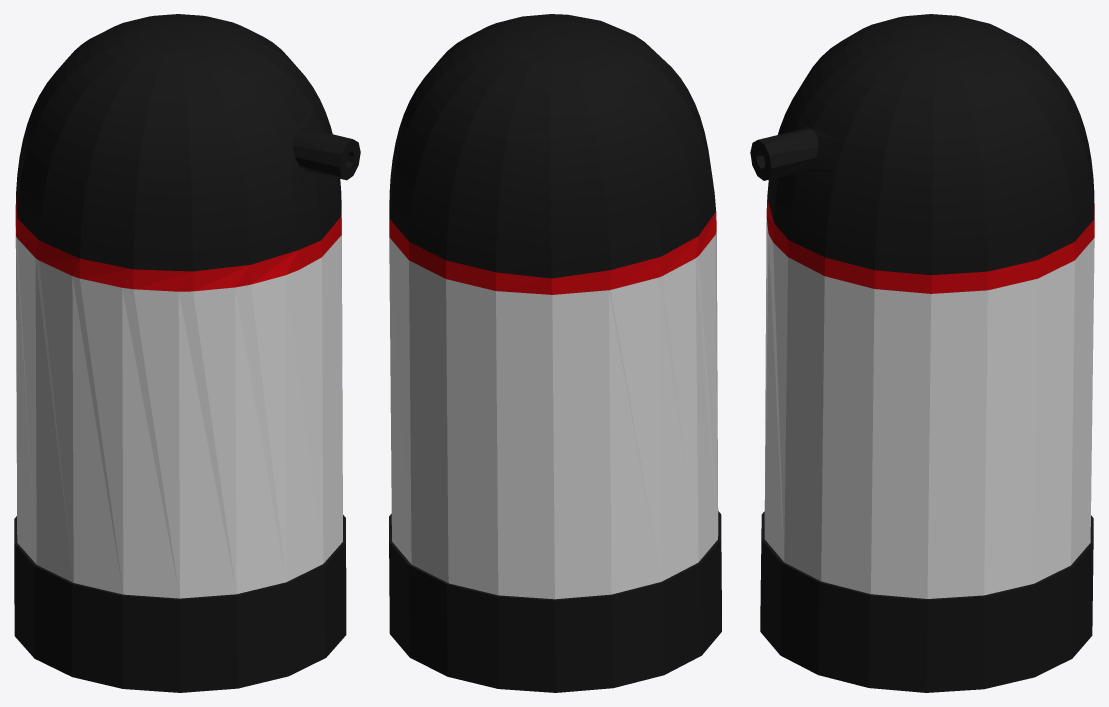
Rendered from soysauce_bottle_black.dae.
3 views of the same model, side by side, from view 1: azimuth 30°, elevation 25°; view 2: azimuth 150°, elevation 25°; view 3: azimuth 270°, elevation 25° (orthographic).
Visible parts, largest first — view 1: Soysauce_Bottle; view 2: Soysauce_Bottle; view 3: Soysauce_Bottle.
Part boxes in pixels (x1,y1,x2,y2): Soysauce_Bottle: (14,14,360,692); Soysauce_Bottle: (389,14,721,692); Soysauce_Bottle: (750,14,1094,692).
Bounding box in the file's own units: 56.04 × 57.19 × 108.
